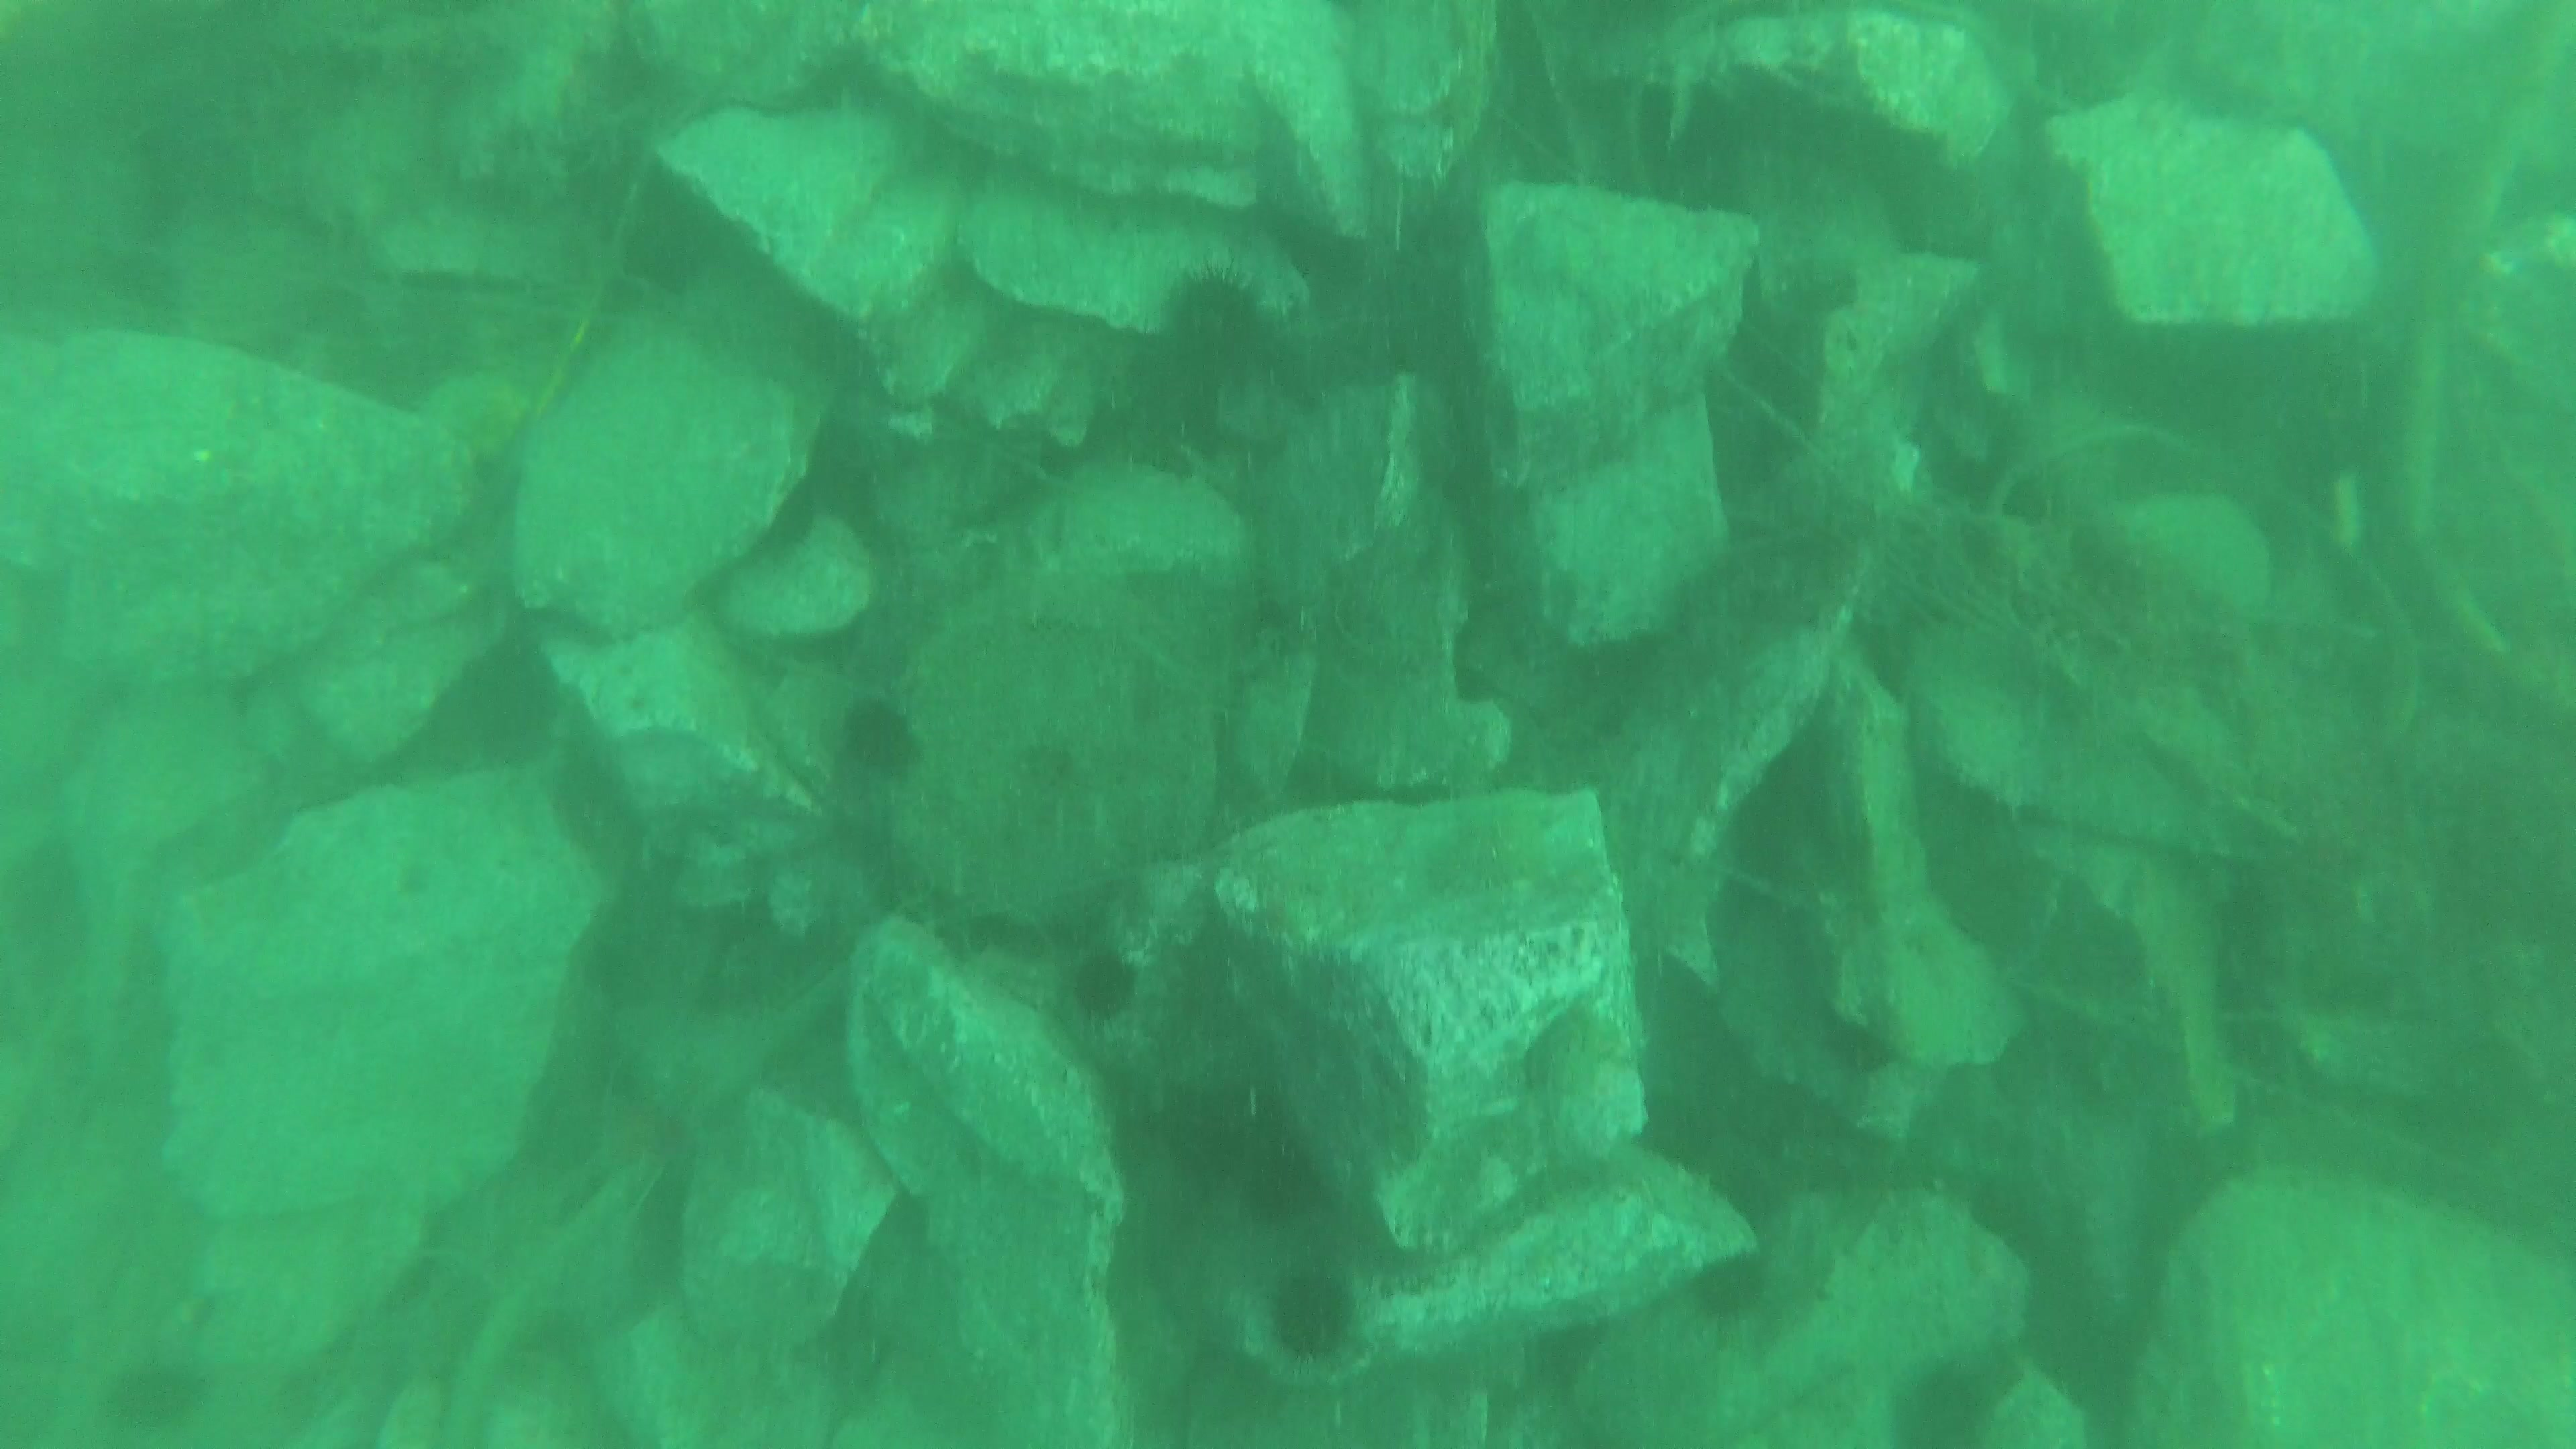echinus: (1159, 262, 1272, 375), (1269, 1265, 1361, 1361), (1249, 1143, 1323, 1224), (840, 697, 922, 771), (1070, 950, 1145, 1024)
